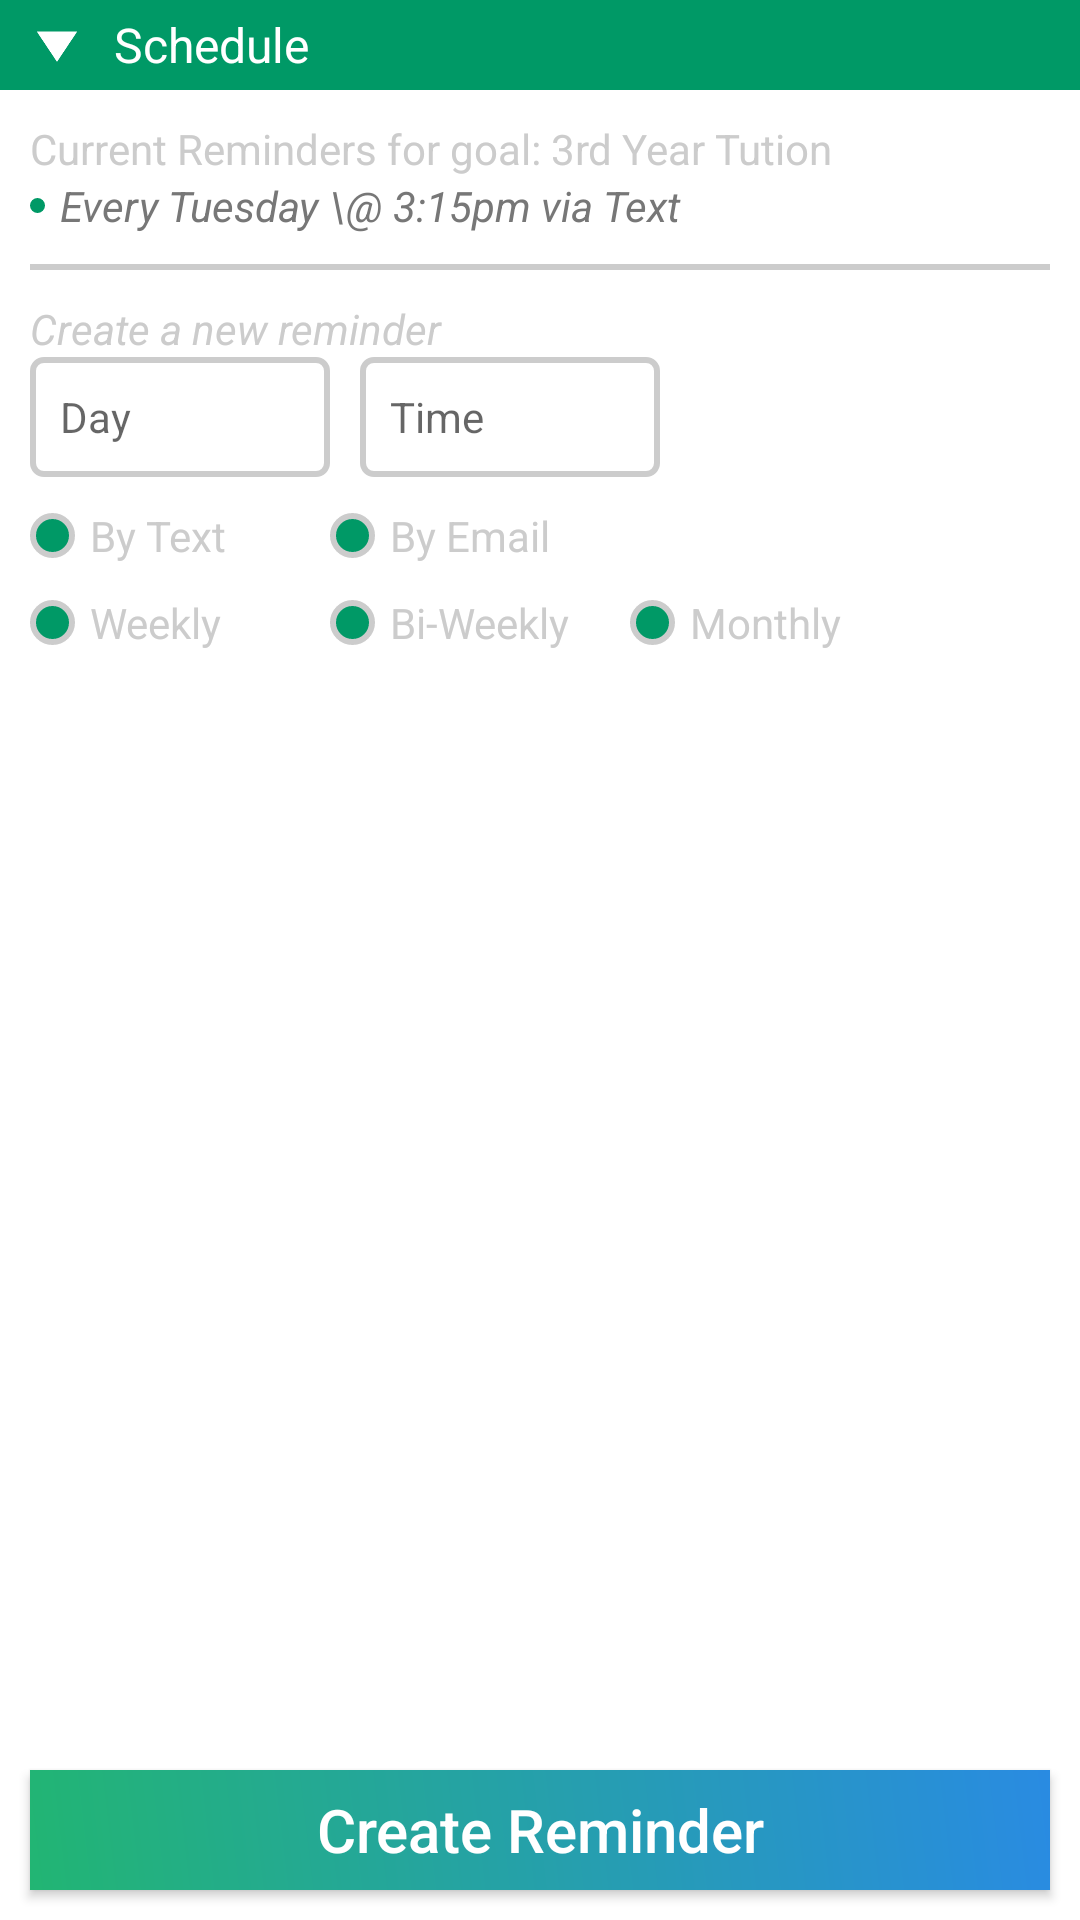

Icon bounding boxes for this 1080w x 1920h phone screenshot, format (x1, y1, x2, y2):
triangle down: (37, 31, 77, 62)
